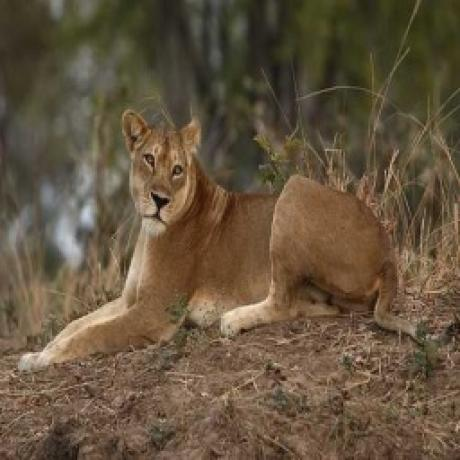Lion: (20, 108, 433, 365)
